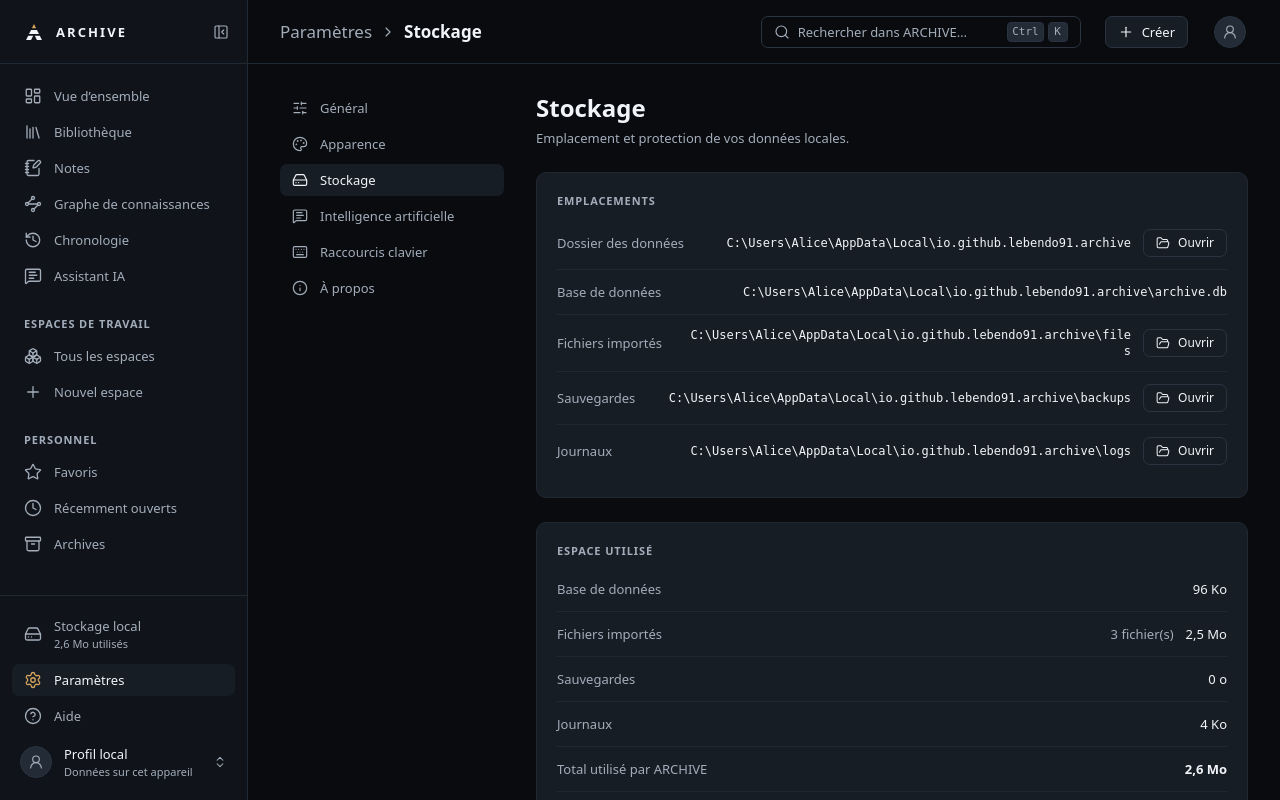
settings › explains a failed folder opening instead of failing silently
The width and height of the screenshot is (1280, 800).
Step 1. Click the 4th button "Ouvrir" → [1185, 451], box [1143, 437, 1227, 465]
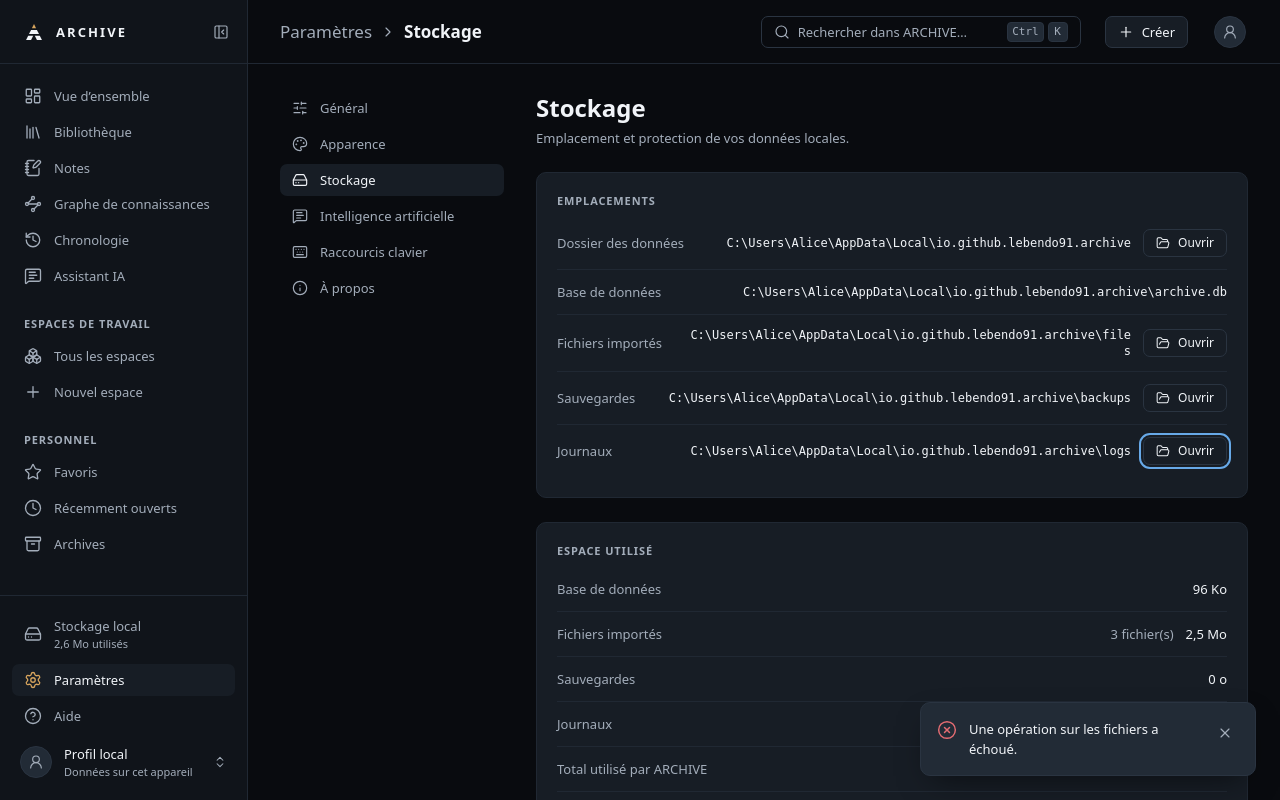
Now the text "Une opération sur les fichiers a échoué." is shown, box [969, 720, 1158, 758]
